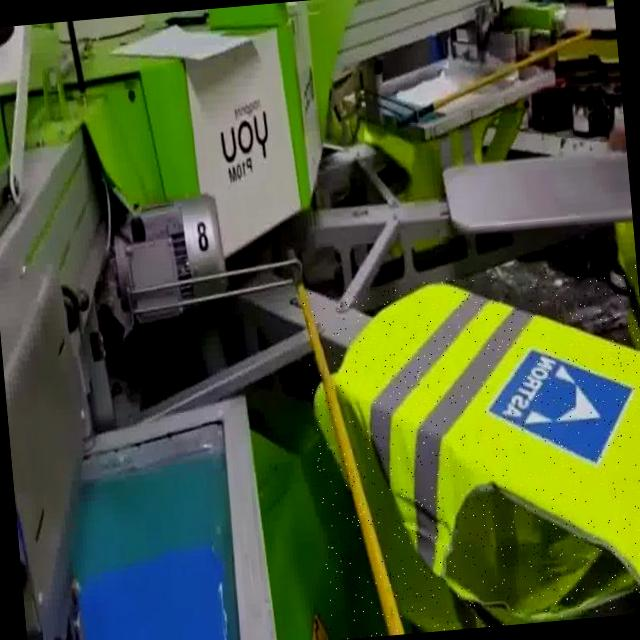vest: (300, 261, 640, 640)
